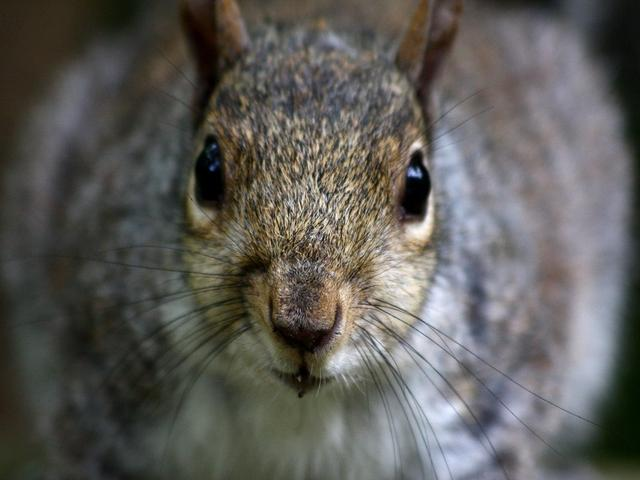rabbit: (33, 5, 589, 450)
